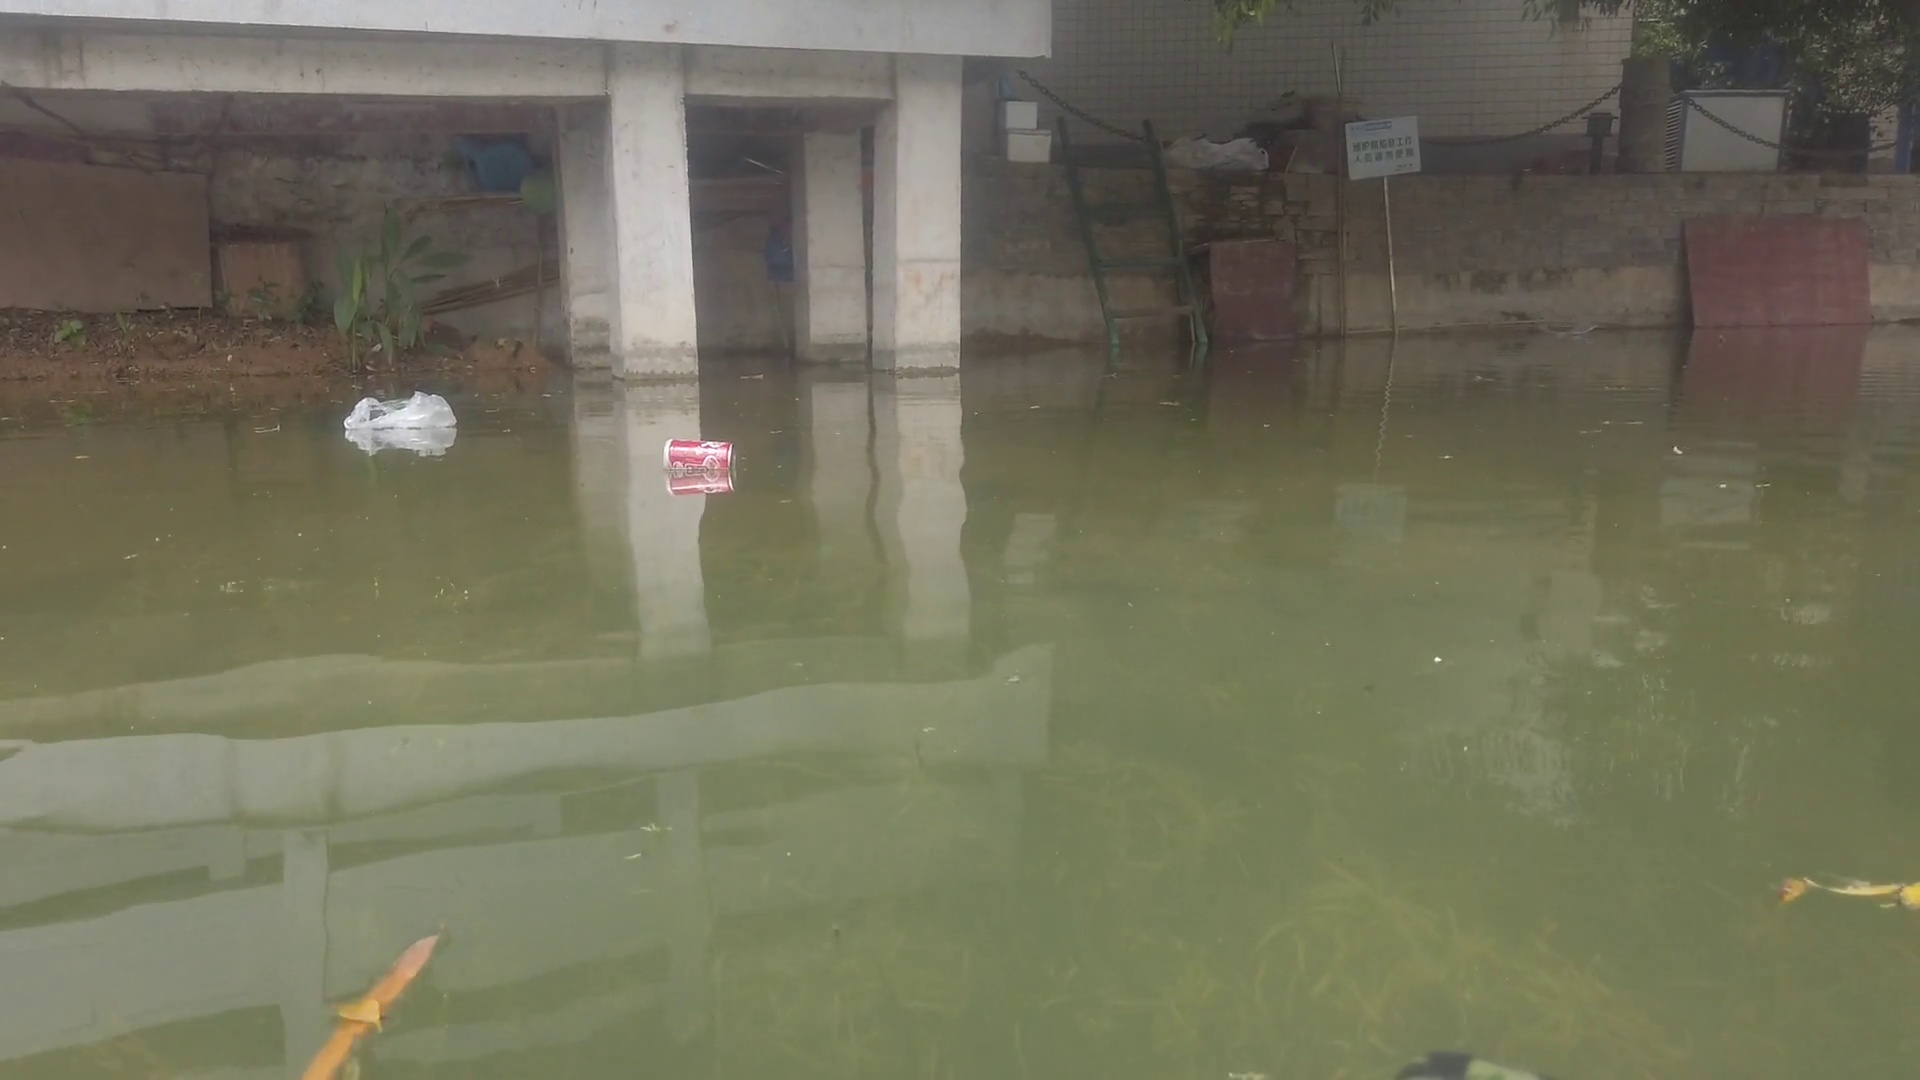bottle: (659, 436, 740, 469)
plastic: (344, 389, 459, 429)
